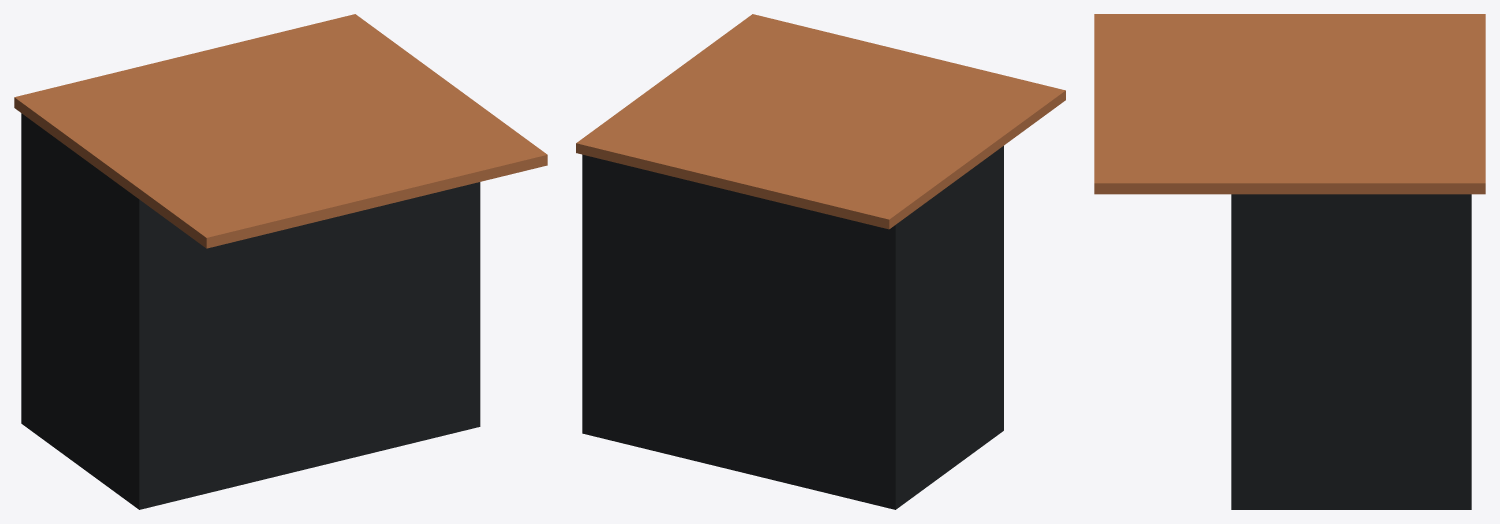
File: furniture_counter_middle.fbx
3 views of the same model, side by side, from view 1: azimuth 30°, elevation 25°; view 2: azimuth 150°, elevation 25°; view 3: azimuth 270°, elevation 25° (orthographic). The views are drawn at different scales.
Parts seen in each view (by area): view 1: Counter Middle; view 2: Counter Middle; view 3: Counter Middle.
Part boxes in pixels (x1,y1,x2,y2): Counter Middle: (14,14,547,509); Counter Middle: (576,14,1065,509); Counter Middle: (1094,14,1485,509).
Bounding box in the file's own units: 1 × 0.9 × 0.9765.
